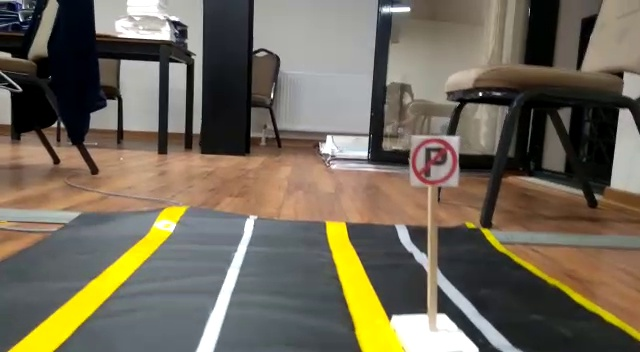park_yapilmaz: (410, 136, 462, 191)
